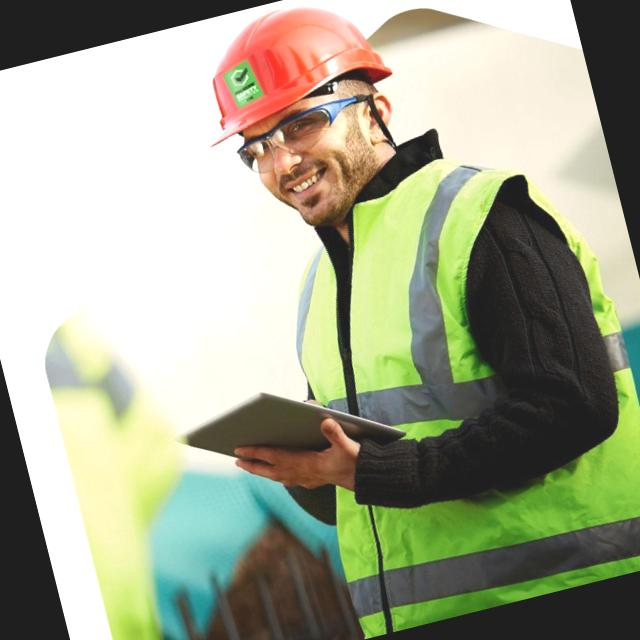helmet: (194, 0, 403, 142)
vest: (232, 131, 640, 640)
